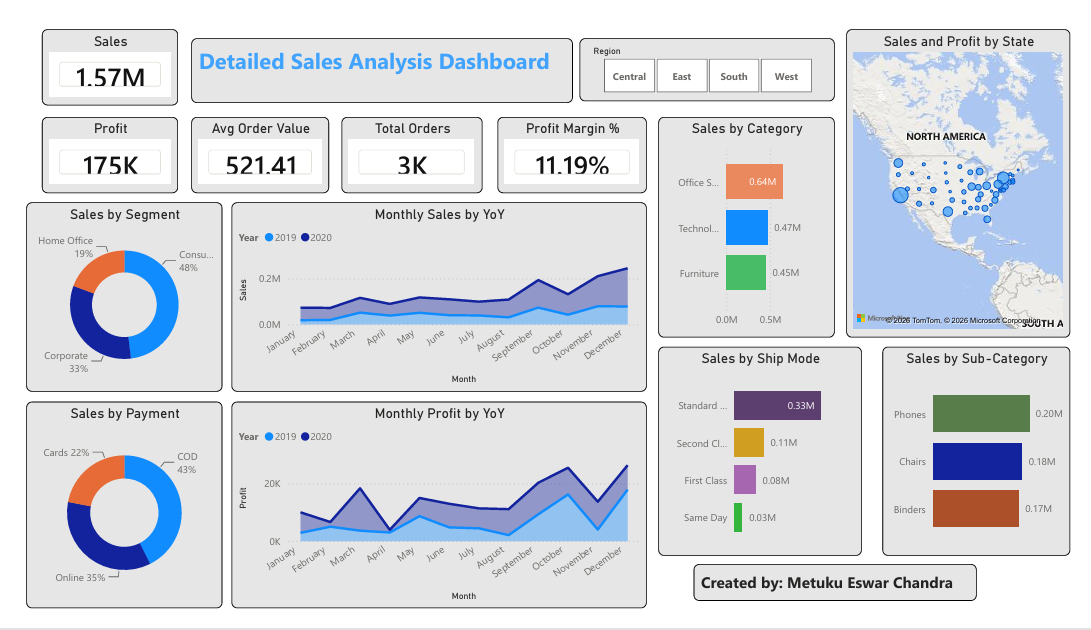

The dashboard page shown, as its layout file describes it:
{"tool":"powerbi","page":{"name":"Detailed Analysis","canvas":[1280,720],"ordinal":1},"visuals":[{"type":"clusteredBarChart","title":"Sales by Category","fields":{"Category":["SuperStore_Sales_Dataset.Category"],"Y":["Sum(SuperStore_Sales_Dataset.Sales)"]},"box":[778,120.8,215.4,269],"z":0},{"type":"clusteredBarChart","title":"Sales by Sub-Category","fields":{"Category":["SuperStore_Sales_Dataset.Sub-Category"],"Y":["Sum(SuperStore_Sales_Dataset.Sales)"]},"box":[1051.1,400.7,229.2,255.2],"z":1000},{"type":"clusteredBarChart","title":"Sales by Ship Mode","fields":{"Category":["SuperStore_Sales_Dataset.Ship Mode"],"Y":["Sum(SuperStore_Sales_Dataset.Sales)"]},"box":[778,400.7,248.4,255.2],"z":2000},{"type":"stackedAreaChart","title":"Monthly Profit by YoY","fields":{"Y":["Sum(SuperStore_Sales_Dataset.Profit)"],"Category":["Orders.Order Date.Variation.Date Hierarchy.Month"],"Series":["Orders.Order Date.Variation.Date Hierarchy.Year"]},"box":[258,467.9,506.3,252.5],"z":4000},{"type":"map","title":"Sales and Profit by State","fields":{"Category":["SuperStore_Sales_Dataset.State"],"Size":["Sum(SuperStore_Sales_Dataset.Sales)"]},"box":[1007.2,13.7,273.1,376],"z":5000},{"type":"donutChart","title":"Sales by Segment","fields":{"Category":["SuperStore_Sales_Dataset.Segment"],"Y":["Sum(SuperStore_Sales_Dataset.Sales)"]},"box":[8.2,225,238.8,230.5],"z":6000},{"type":"donutChart","title":"Sales by Payment","fields":{"Category":["SuperStore_Sales_Dataset.Payment Mode"],"Y":["Sum(SuperStore_Sales_Dataset.Sales)"]},"box":[8.2,467.9,238.8,252.5],"z":7000},{"type":"slicer","fields":{"Values":["SuperStore_Sales_Dataset.Region"]},"box":[682,24.7,311.5,76.8],"z":8000},{"type":"textbox","box":[208.6,24.7,465.2,79.6],"z":9000},{"type":"cardVisual","title":"Sales","fields":{"Data":["Sum(SuperStore_Sales_Dataset.Sales)"]},"box":[27.4,13.7,166,93.3],"z":10000},{"type":"cardVisual","title":"Profit","fields":{"Data":["Sum(SuperStore_Sales_Dataset.Profit)"]},"box":[27.4,120.8,166,93.3],"z":11000},{"type":"cardVisual","title":"Total Orders","fields":{"Data":["SuperStore_Sales_Dataset.Total Orders"]},"box":[392.5,120.8,171.5,93.3],"z":12000},{"type":"cardVisual","title":"Profit Margin %","fields":{"Data":["SuperStore_Sales_Dataset.Profit Margin %"]},"box":[581.8,120.8,182.5,93.3],"z":13000},{"type":"cardVisual","title":"Avg Order Value","fields":{"Data":["SuperStore_Sales_Dataset.Average Order Value"]},"box":[208.6,120.8,168.8,93.3],"z":14000},{"type":"stackedAreaChart","title":"Monthly Sales by YoY ","fields":{"Y":["Sum(Orders.Sales)"],"Category":["Orders.Order Date.Variation.Date Hierarchy.Month"],"Series":["Orders.Order Date.Variation.Date Hierarchy.Year"]},"box":[258,225,506.3,230.5],"z":14001},{"type":"textbox","box":[820.6,665.5,345.8,45.3],"z":14002}]}

Visuals, with their boxes in screenshot pixels (x1, y1, x2, y2), scaled from the page's 1280x720 canvas onto the 1091x630 screenshot:
"Sales by Category" clusteredBarChart: 663:106:847:341
"Sales by Sub-Category" clusteredBarChart: 896:351:1090:574
"Sales by Ship Mode" clusteredBarChart: 663:351:875:574
"Monthly Profit by YoY" stackedAreaChart: 220:409:651:629
"Sales and Profit by State" map: 858:12:1090:341
"Sales by Segment" donutChart: 7:197:211:399
"Sales by Payment" donutChart: 7:409:211:629
slicer - SuperStore_Sales_Dataset.Region: 581:22:847:89
textbox: 178:22:574:91
"Sales" cardVisual: 23:12:165:94
"Profit" cardVisual: 23:106:165:187
"Total Orders" cardVisual: 335:106:481:187
"Profit Margin %" cardVisual: 496:106:651:187
"Avg Order Value" cardVisual: 178:106:322:187
"Monthly Sales by YoY " stackedAreaChart: 220:197:651:399
textbox: 699:582:994:622
